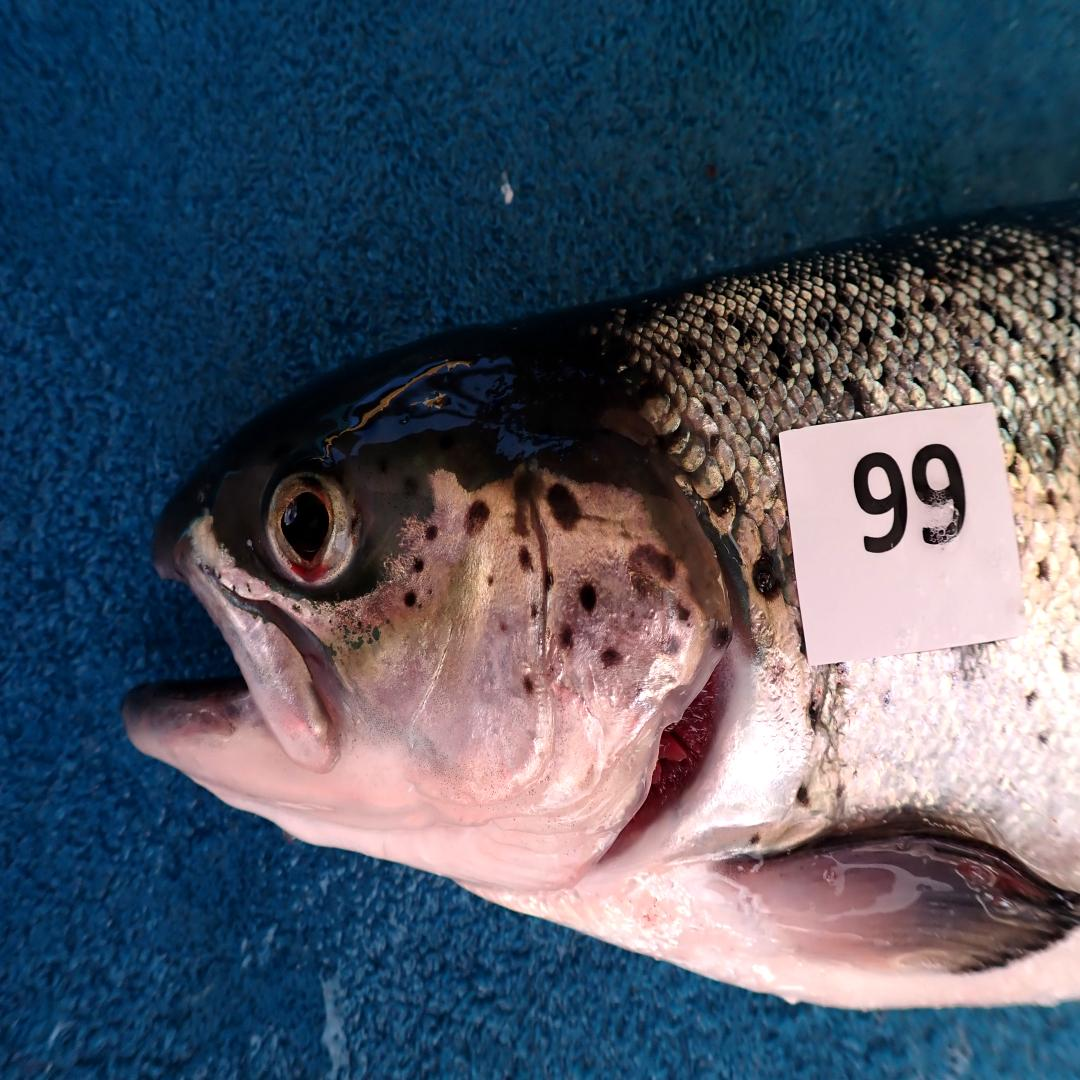roi: (336, 465, 724, 907)
